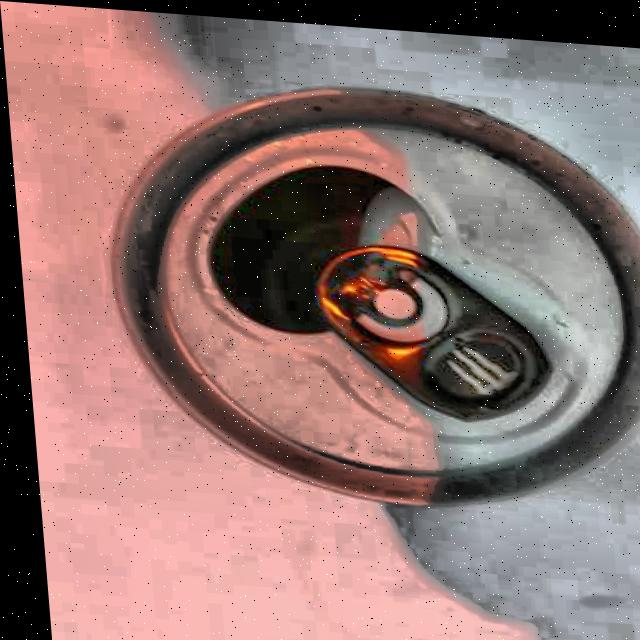metal: (88, 66, 640, 532)
